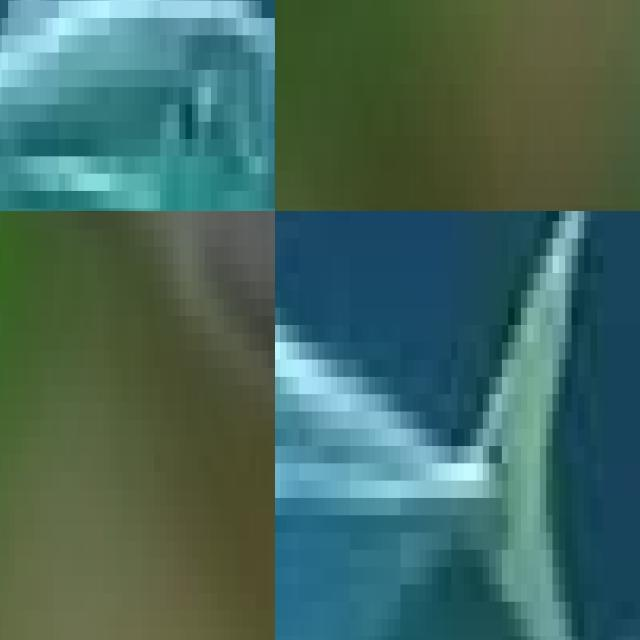fish: (0, 211, 275, 640), (0, 0, 275, 211)
